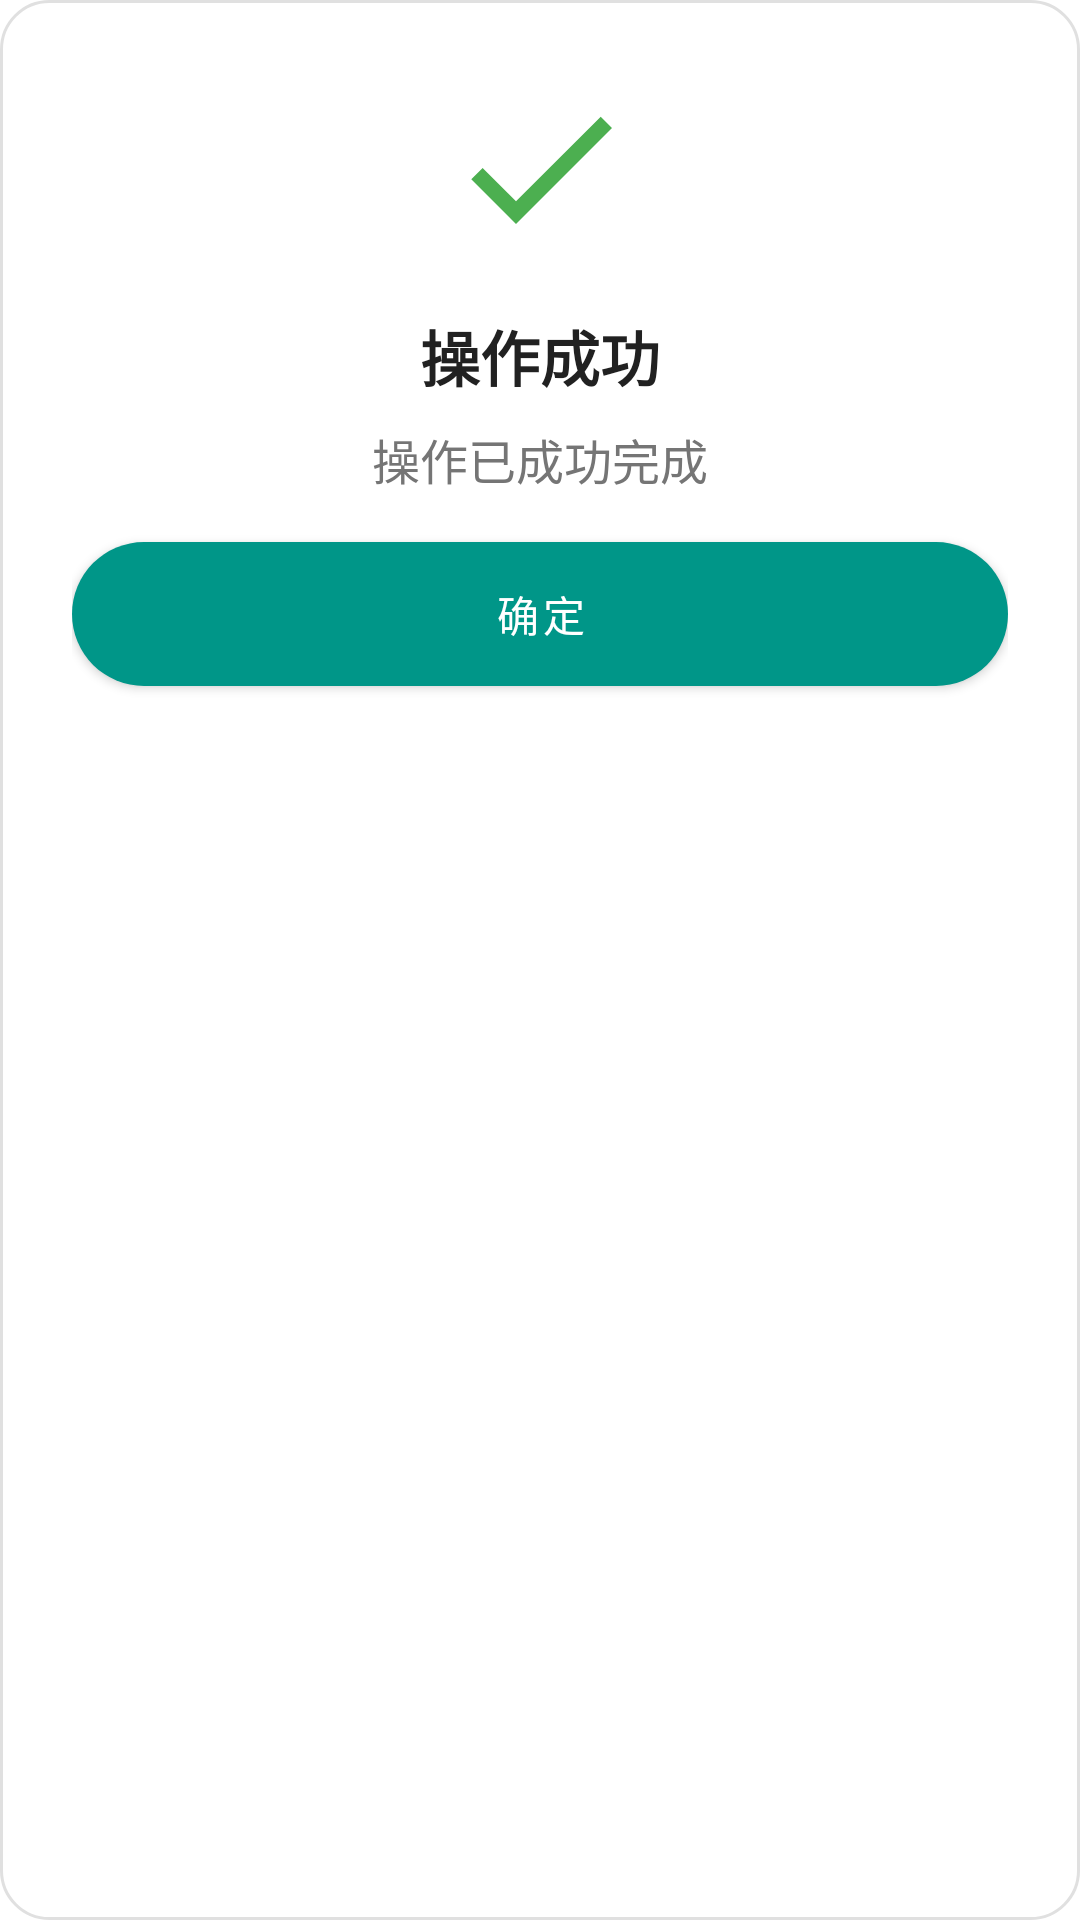

Icon click points for this 1080 x 1920 phone screenshot, format [x,y]:
success: [541,170]
